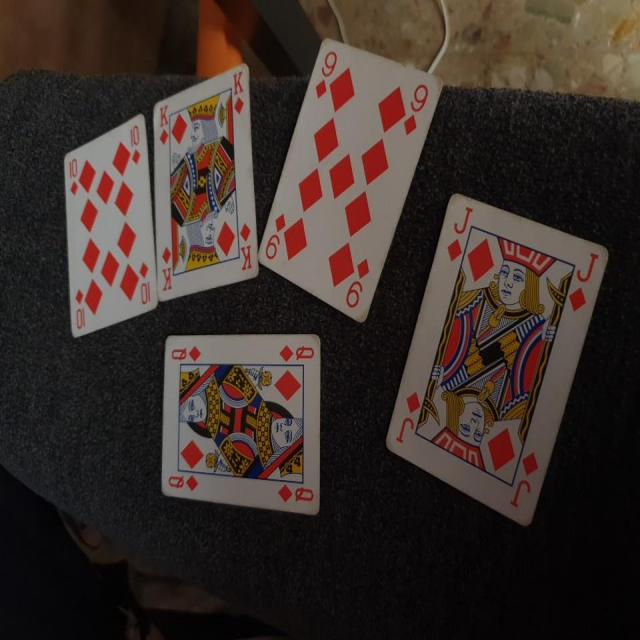10 Diamonds: (63, 109, 158, 338)
9 Diamonds: (258, 34, 444, 324)
J Diamonds: (382, 180, 610, 524)
K Diamonds: (149, 63, 260, 304)
Q Diamonds: (157, 332, 325, 516)
